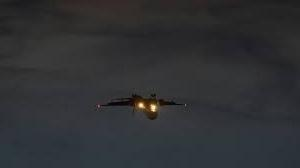Plane: (94, 81, 197, 131)
